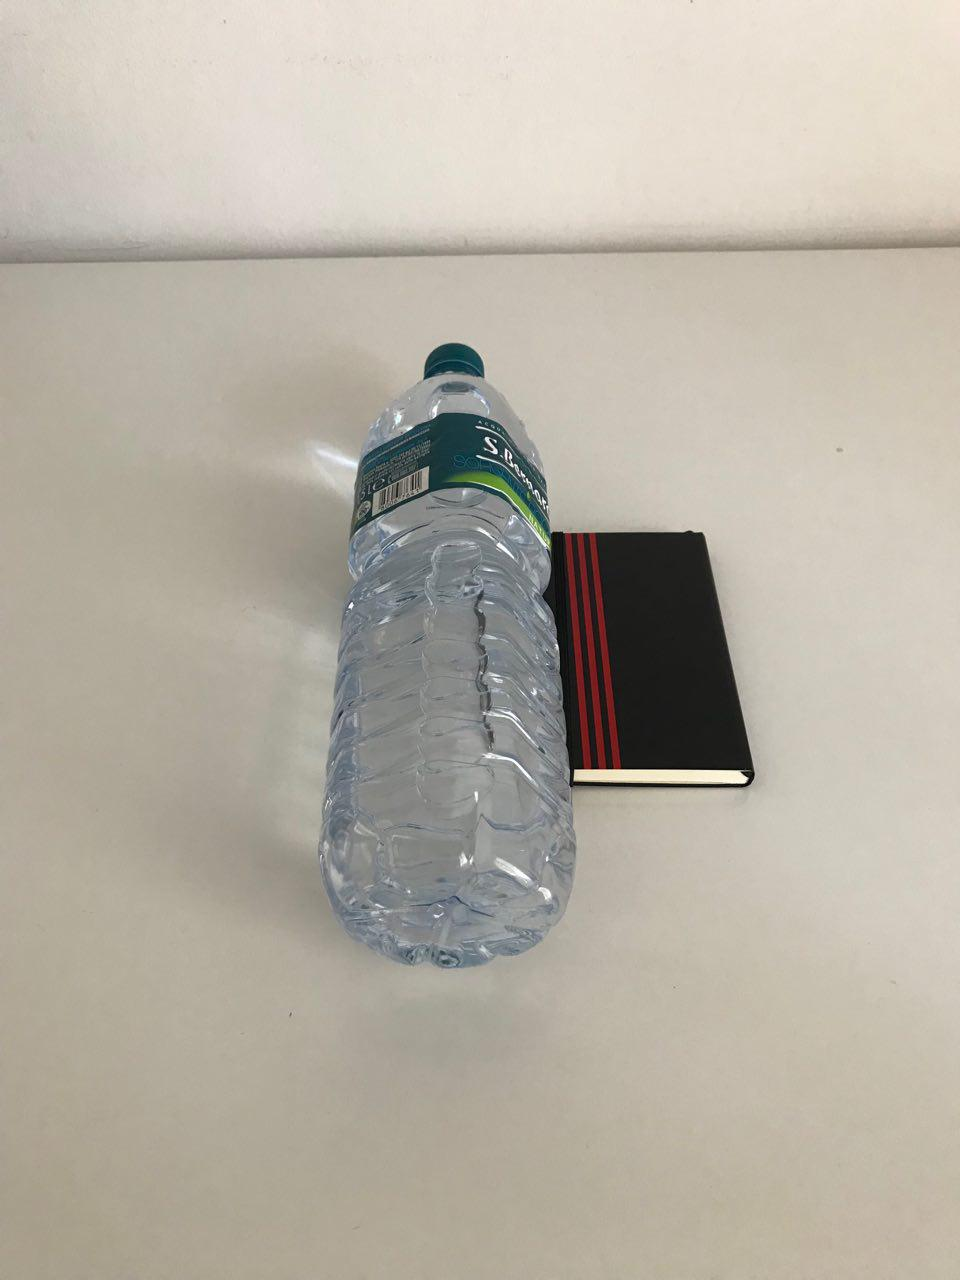san_bernardo: (314, 340, 578, 971)
